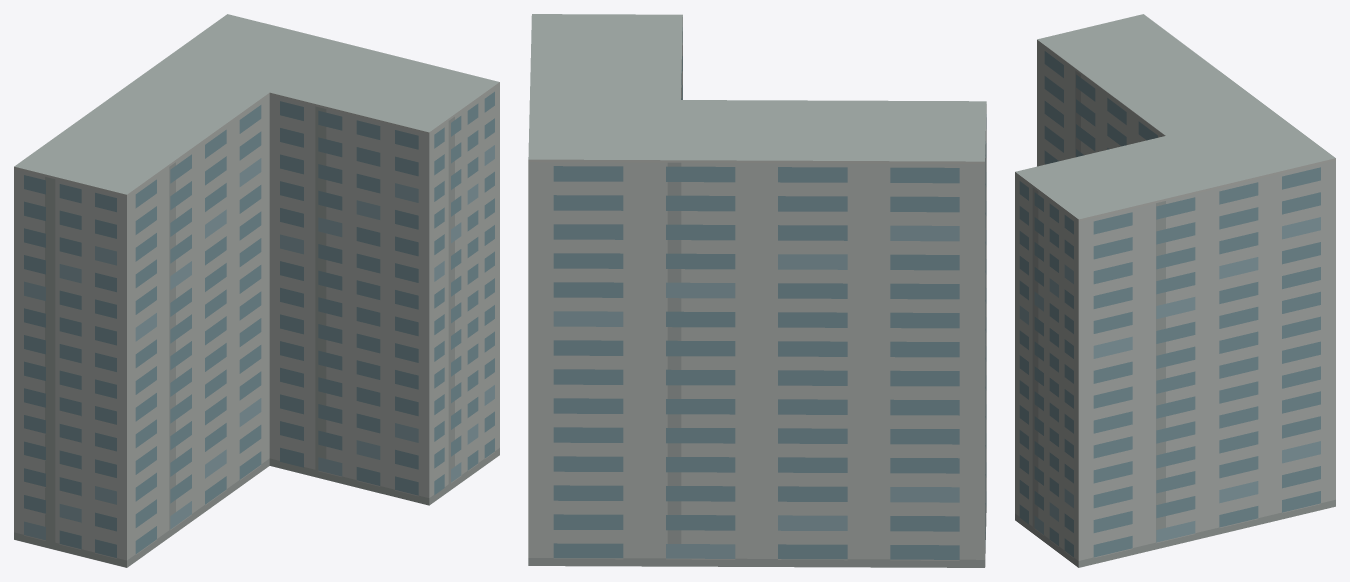
The model's file is residential-3f341a56-2d1d-4130-a2ea-b4e598a08b85.glb.
3 views of the same model, side by side, from view 1: azimuth 30°, elevation 25°; view 2: azimuth 150°, elevation 25°; view 3: azimuth 270°, elevation 25° (orthographic). The views are drawn at different scales.
Visible parts, largest first — view 1: residential-3f341a56-2d1d-4130-a2ea-b4e598a08b85.tmp; view 2: residential-3f341a56-2d1d-4130-a2ea-b4e598a08b85.tmp; view 3: residential-3f341a56-2d1d-4130-a2ea-b4e598a08b85.tmp.
Part boxes in pixels (box(x1,y1,x2,y2)): residential-3f341a56-2d1d-4130-a2ea-b4e598a08b85.tmp: box(14, 14, 499, 567); residential-3f341a56-2d1d-4130-a2ea-b4e598a08b85.tmp: box(528, 14, 986, 567); residential-3f341a56-2d1d-4130-a2ea-b4e598a08b85.tmp: box(1015, 14, 1335, 567).
Bounding box in the file's own units: 49.33 × 39 × 32.55.
